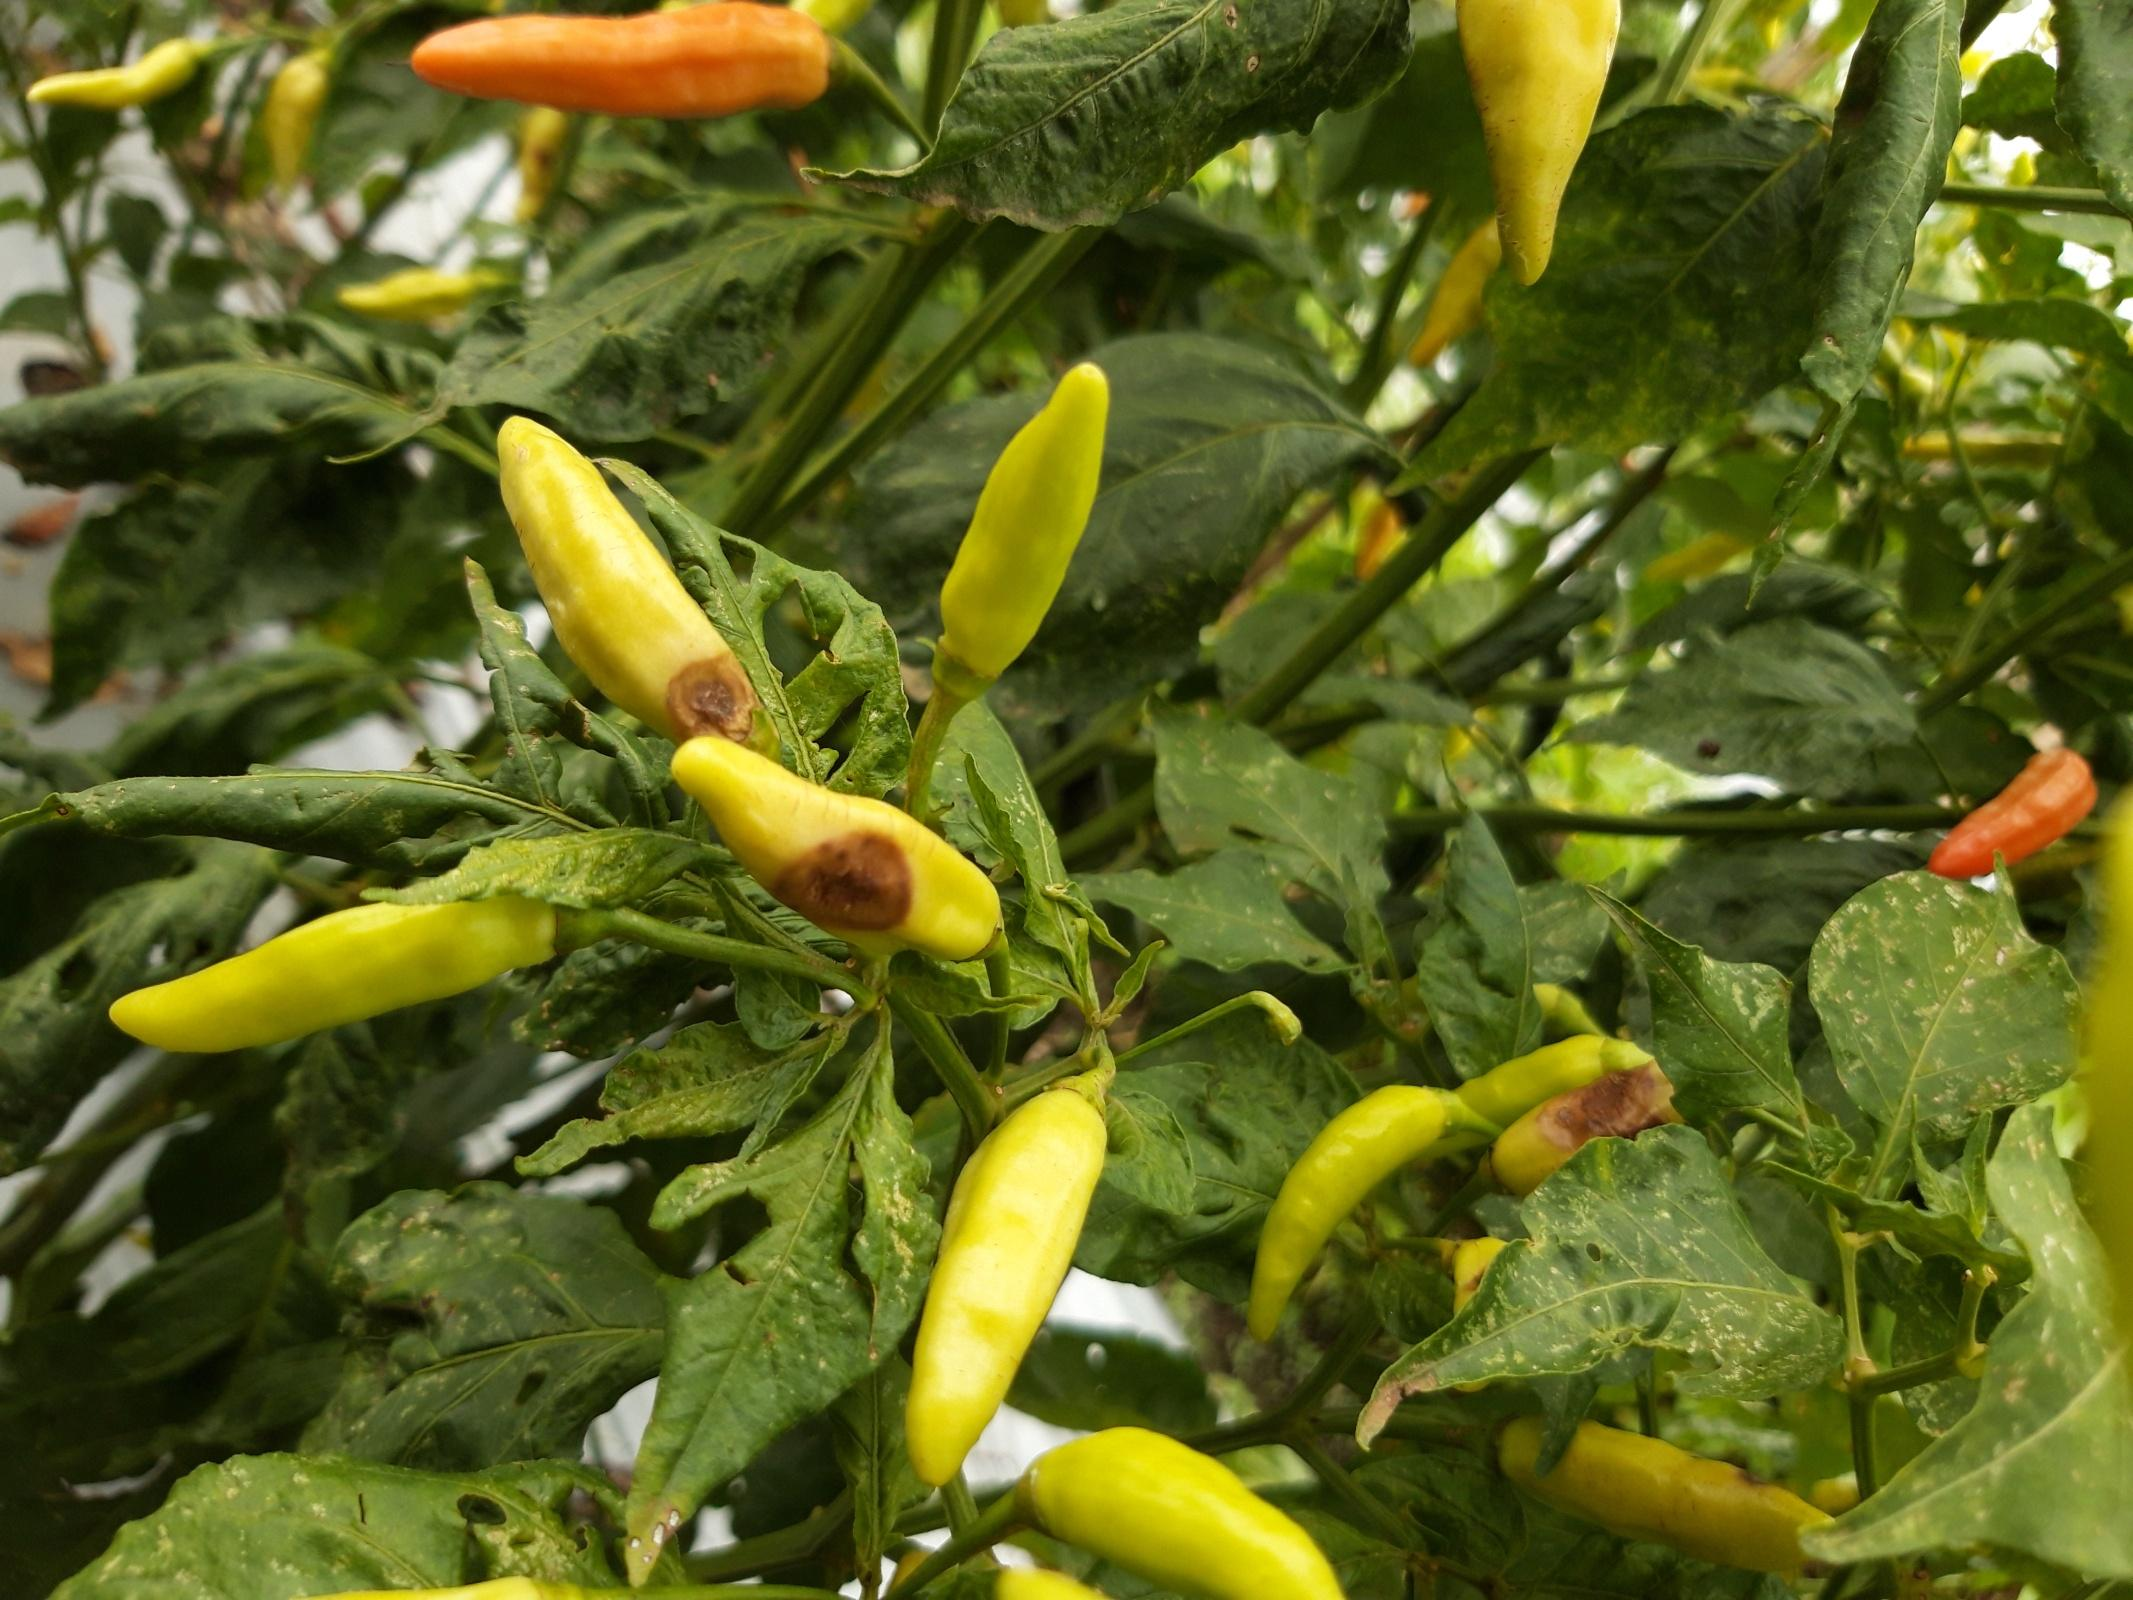cabai_normal: (904, 1071, 1106, 1487), (109, 903, 595, 1054), (933, 363, 1108, 704), (1014, 1425, 1341, 1600), (1247, 1081, 1462, 1343), (410, 2, 845, 119), (1456, 2, 1630, 292), (1926, 746, 2096, 882), (22, 37, 217, 109), (262, 44, 340, 195), (336, 267, 518, 319)
lalat_buah: (498, 418, 778, 751), (671, 734, 1005, 961), (1472, 1412, 1851, 1575), (1476, 1061, 1671, 1193)
